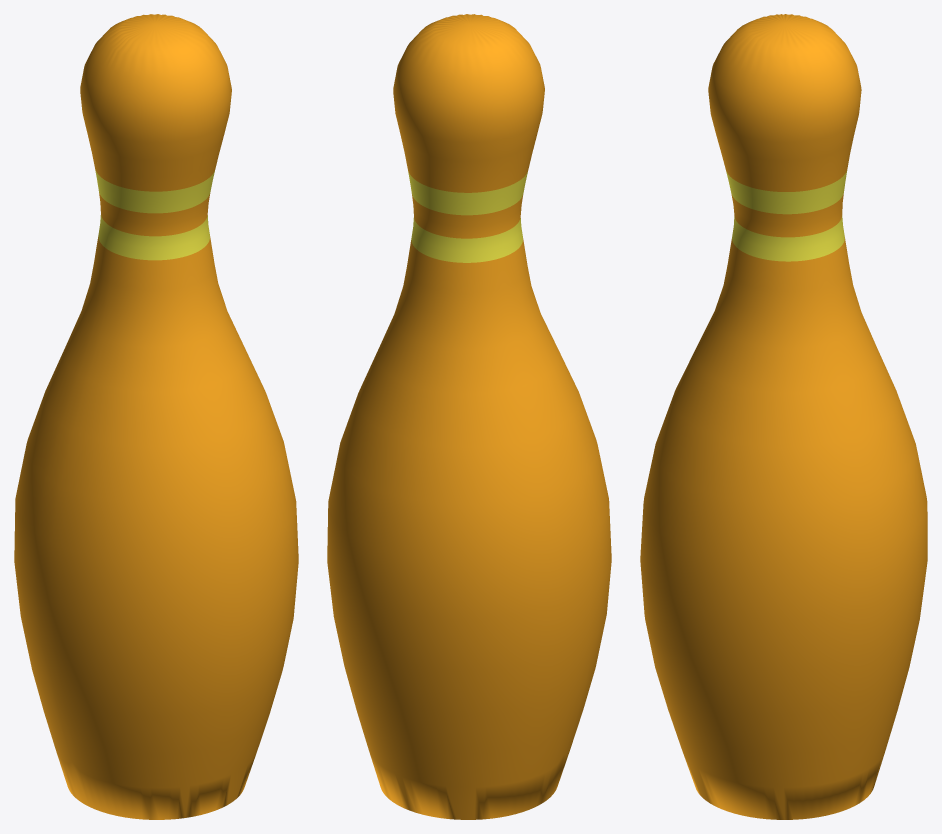
The model's file is Gold Bowling pin (1).fbx.
3 renders of one model, left to right at view 1: azimuth 30°, elevation 25°; view 2: azimuth 150°, elevation 25°; view 3: azimuth 270°, elevation 25°, orthographic.
Visible parts, largest first — view 1: Golden Pin; view 2: Golden Pin; view 3: Golden Pin.
Boxes of the visible parts, x1,y1,x2,y2 form: Golden Pin: (14,14,298,819); Golden Pin: (327,14,611,819); Golden Pin: (640,14,927,819).
Size of the model in its own units: 131 by 387 by 133.
Materials: 1 (1 with a texture image).
